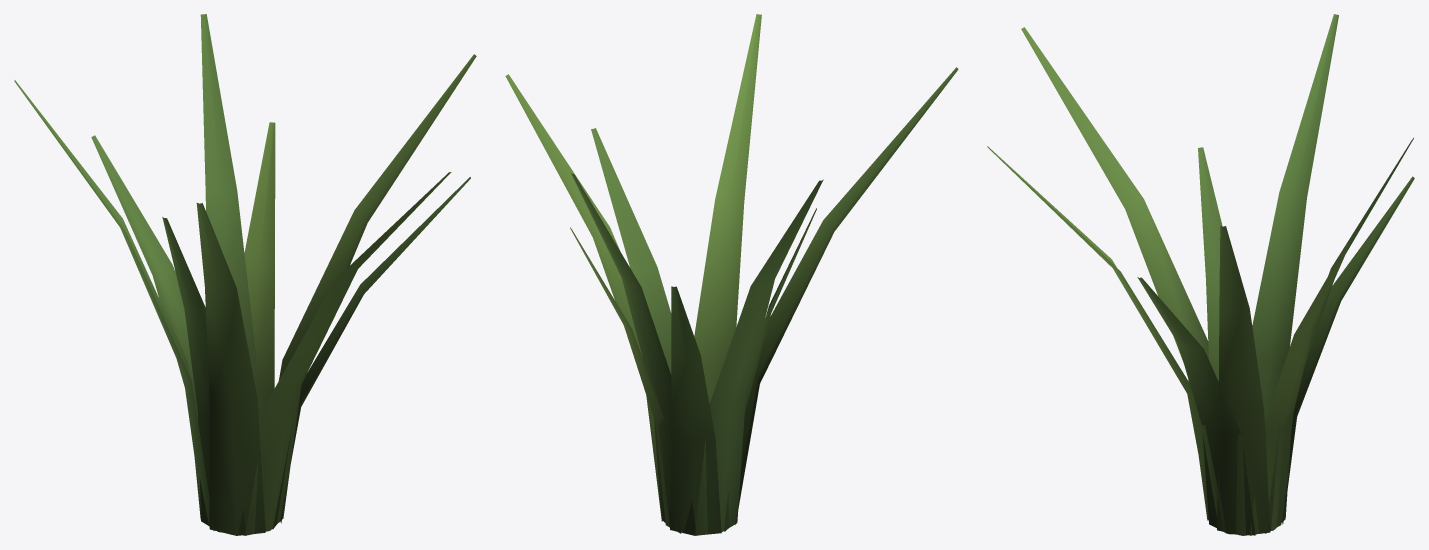
The model's file is HD_GrassClump.glb.
The picture shows the model from 3 angles, left to right: view 1: azimuth 30°, elevation 25°; view 2: azimuth 150°, elevation 25°; view 3: azimuth 270°, elevation 25°; orthographic projection. The views are drawn at different scales.
Parts seen in each view (by area): view 1: HD_GrassClump_1_SmoothPlastic; view 2: HD_GrassClump_1_SmoothPlastic; view 3: HD_GrassClump_1_SmoothPlastic.
Part boxes in pixels (<box>): HD_GrassClump_1_SmoothPlastic: <box>14,14,476,535</box>; HD_GrassClump_1_SmoothPlastic: <box>505,14,958,535</box>; HD_GrassClump_1_SmoothPlastic: <box>987,14,1414,535</box>.
Bounding box in the file's own units: 2.3 × 2.45 × 2.24.
